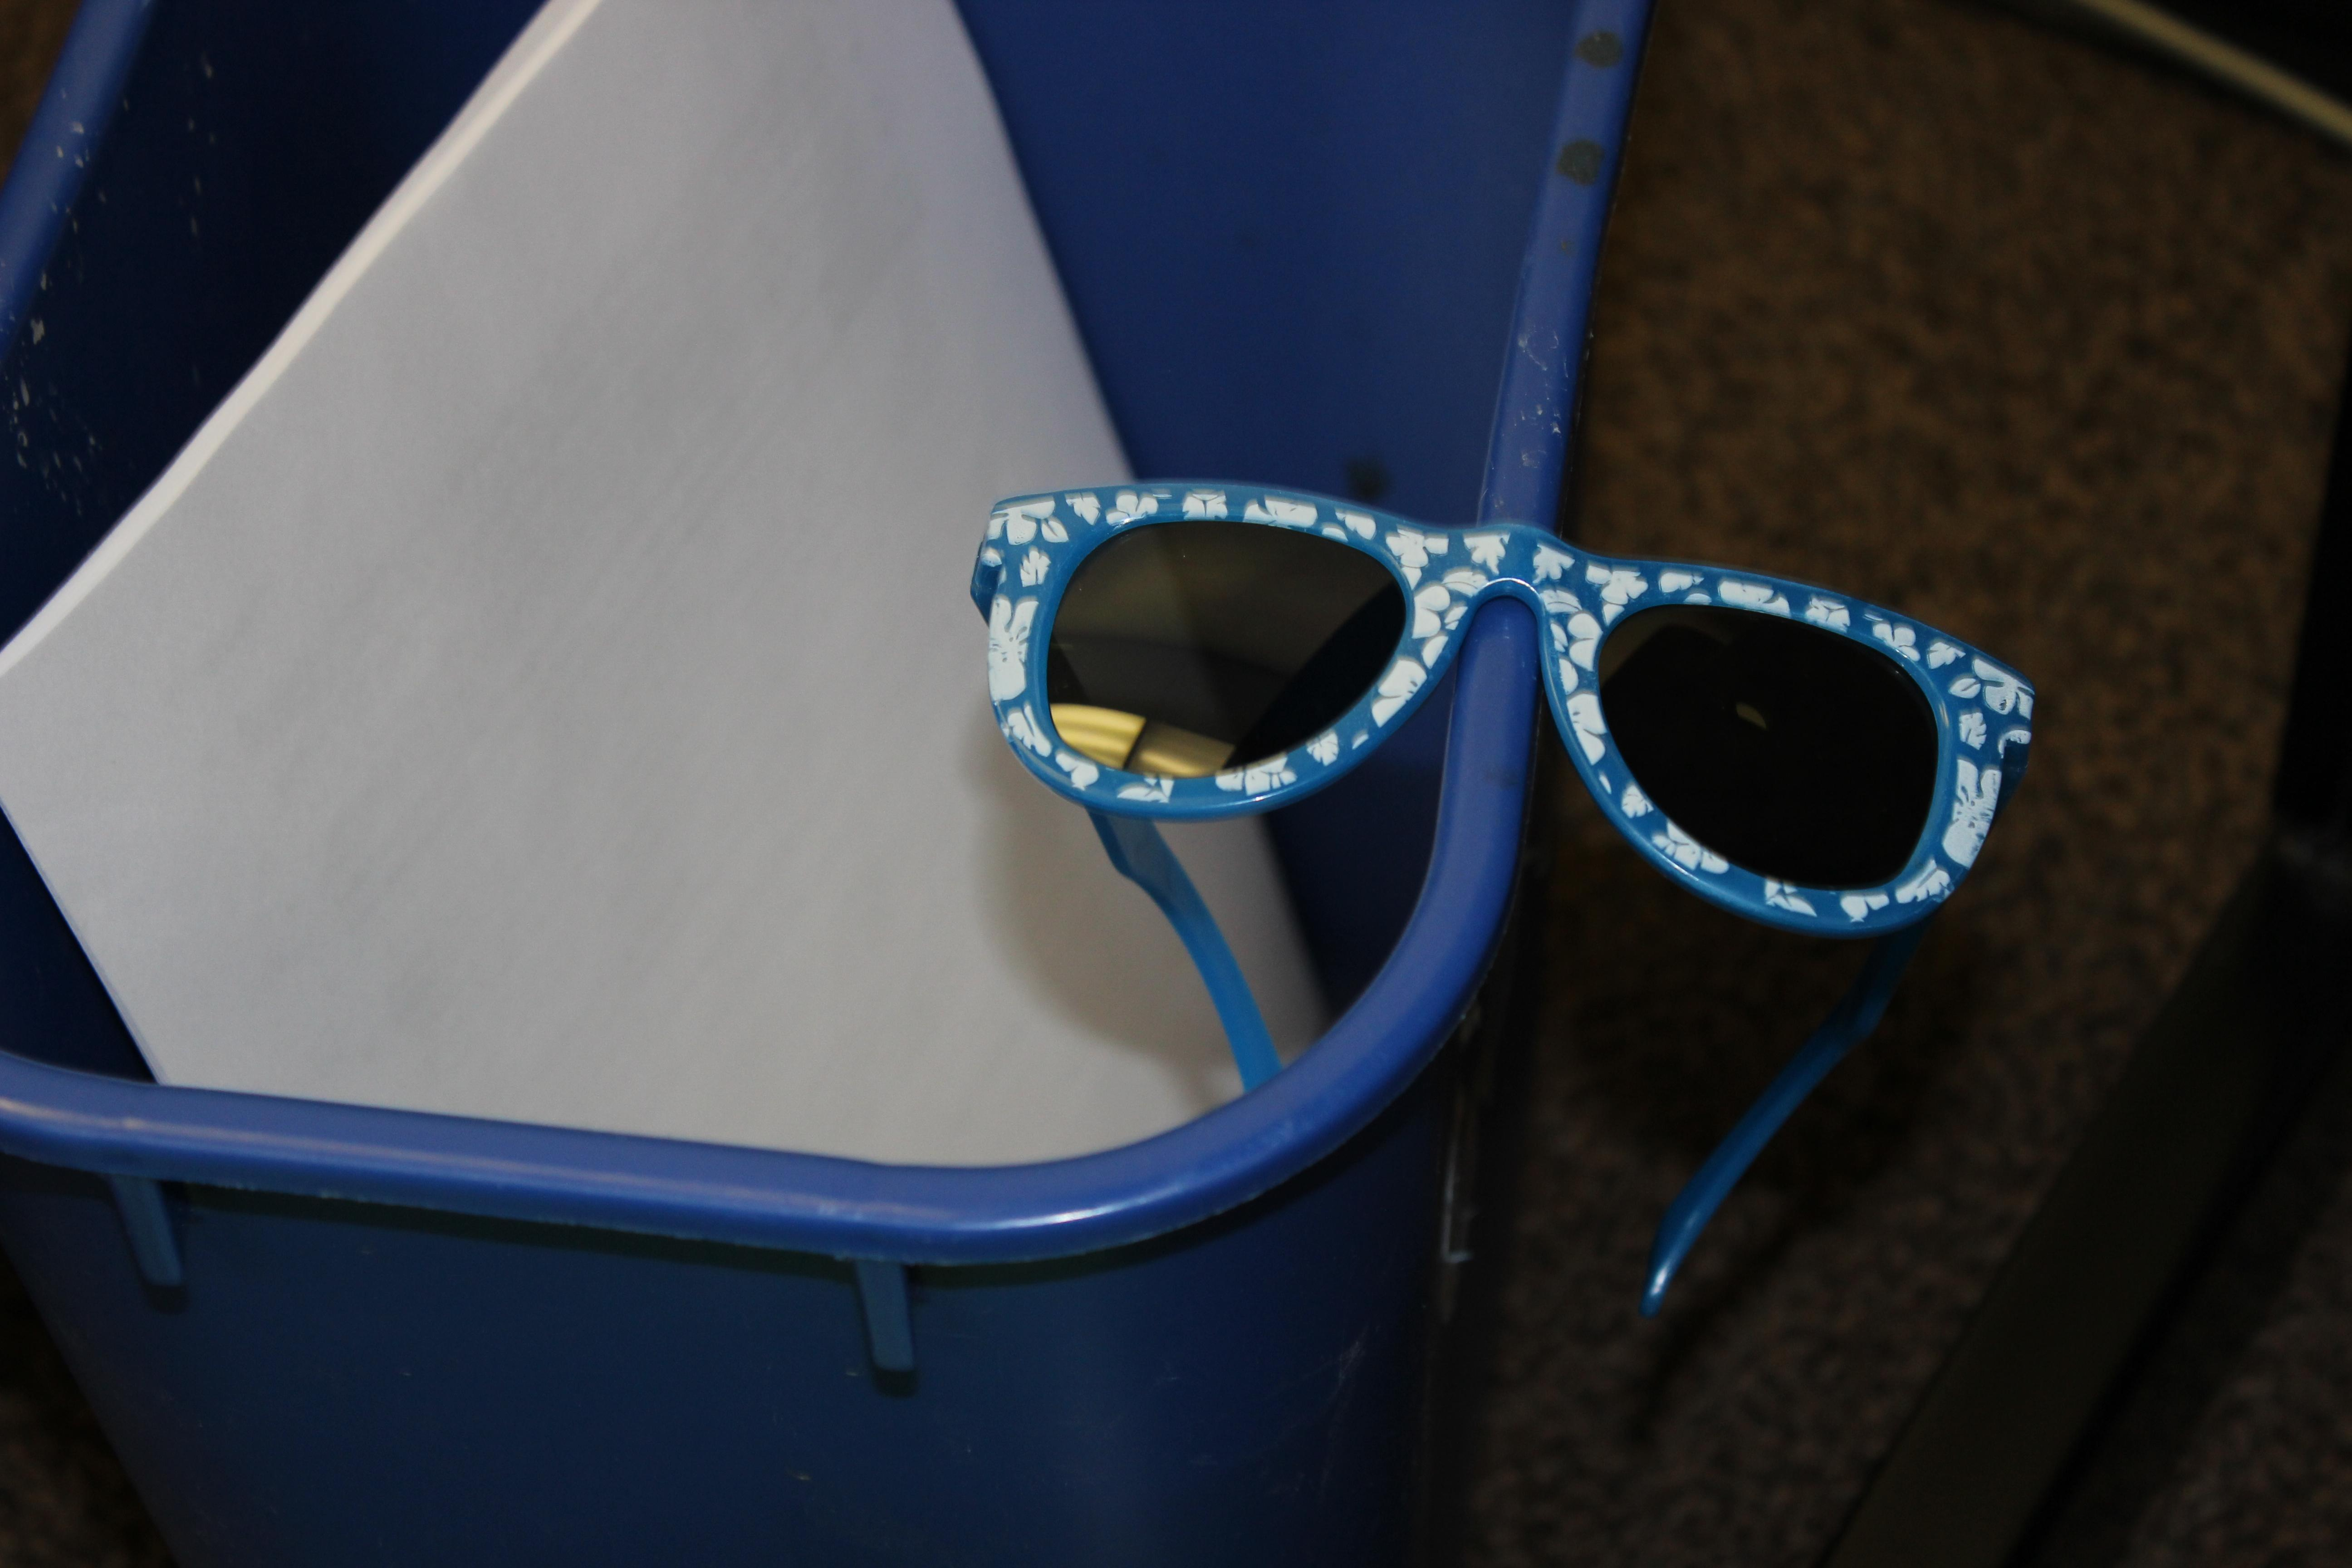blueSunglasses: (947, 450, 2077, 1332)
